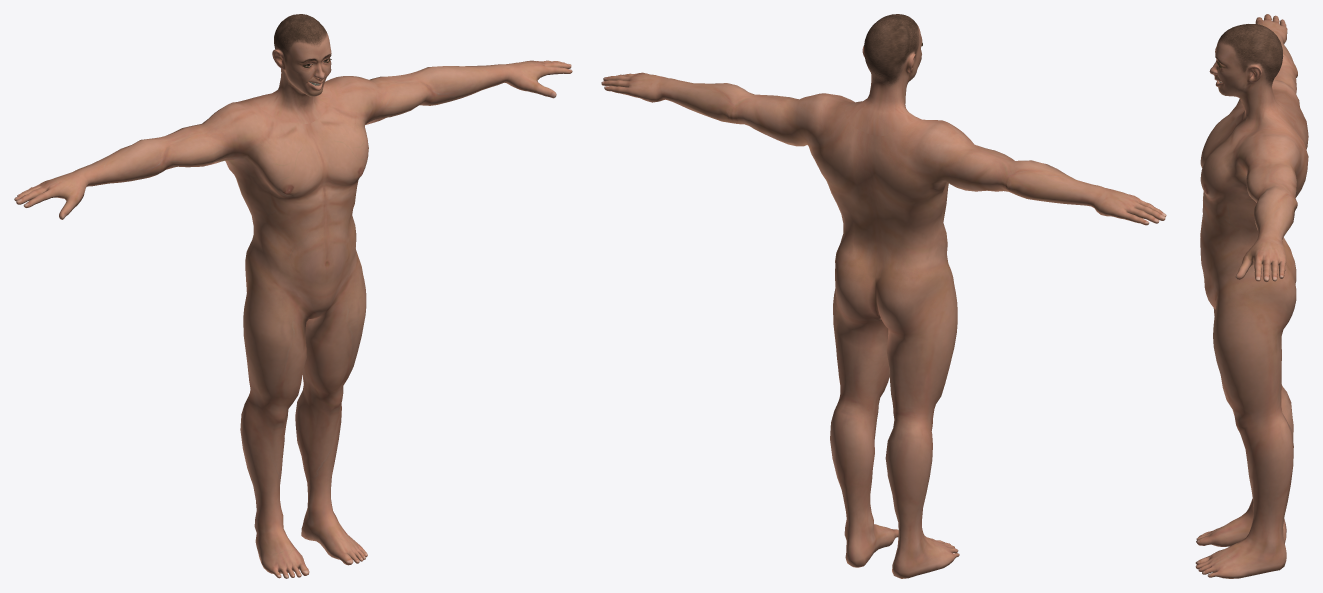
Rendered from face_goofy.obj.
3 views of the same model, side by side, from view 1: azimuth 30°, elevation 25°; view 2: azimuth 150°, elevation 25°; view 3: azimuth 270°, elevation 25° (orthographic). The views are drawn at different scales.
Parts seen in each view (by area): view 1: BodyParts; view 2: BodyParts; view 3: BodyParts.
Boxes of the visible parts, left/top/right/bottom form: BodyParts: left=14, top=14, right=572, bottom=578; BodyParts: left=601, top=14, right=1166, bottom=578; BodyParts: left=1195, top=14, right=1308, bottom=578.
Bounding box in the file's own units: 194 × 179 × 34.57.
